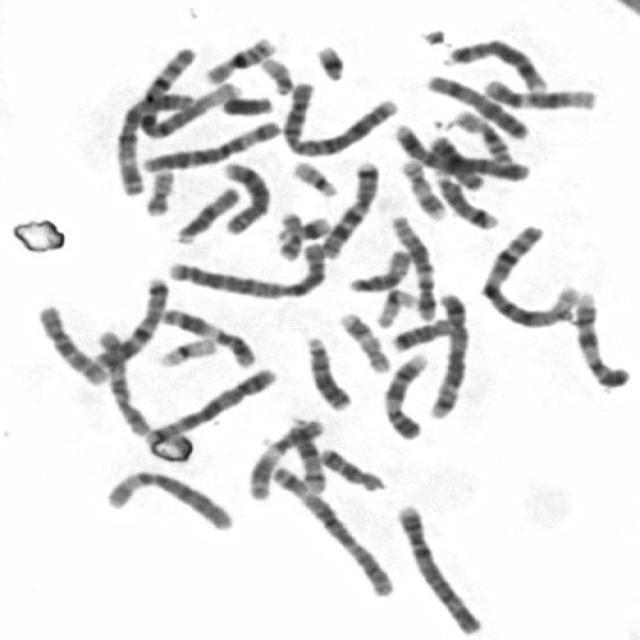A1: (478, 222, 584, 330), (137, 42, 238, 141)
A2: (162, 240, 328, 300), (276, 82, 401, 158)
A3: (269, 462, 394, 598), (114, 90, 200, 209)
B4: (392, 500, 485, 636), (388, 122, 530, 183)
B5: (141, 364, 279, 451), (421, 293, 480, 423)
C10: (33, 301, 109, 387), (93, 327, 151, 436)
C11: (245, 415, 325, 501), (158, 305, 258, 369)
C12: (387, 212, 438, 324), (479, 76, 599, 112)
C6: (100, 466, 235, 532), (138, 117, 283, 173)
C7: (90, 273, 169, 372), (318, 156, 380, 260)
C8: (440, 35, 549, 94), (218, 159, 272, 236)
C9: (571, 287, 630, 388), (379, 349, 430, 442)
D13: (426, 134, 485, 206), (301, 333, 353, 411)
D14: (431, 170, 498, 232), (287, 416, 326, 496)
D15: (170, 184, 241, 246), (344, 246, 411, 294)
E16: (201, 35, 276, 86), (452, 106, 514, 166)
E17: (336, 309, 391, 374), (397, 157, 447, 221)
E18: (316, 444, 385, 493), (386, 317, 454, 353)
F19: (154, 334, 218, 368), (372, 285, 420, 329)
F20: (140, 167, 176, 218), (274, 208, 303, 262)
G21: (274, 216, 334, 244), (314, 42, 348, 83)
G22: (288, 158, 339, 198), (258, 54, 294, 96)
X: (422, 72, 530, 140)
Y: (218, 92, 276, 117)
